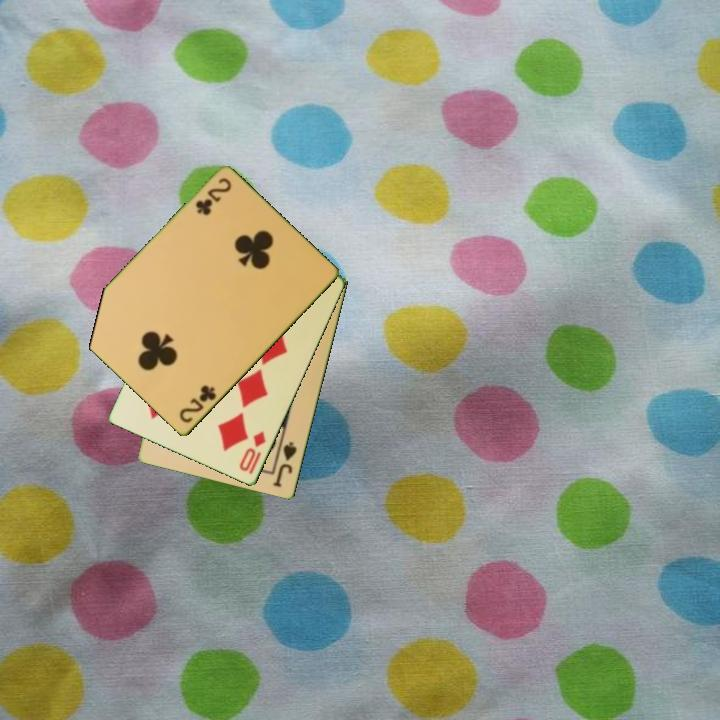10d: (236, 428, 269, 477)
2c: (176, 382, 219, 426), (192, 175, 234, 218)
Js: (270, 438, 300, 490)
